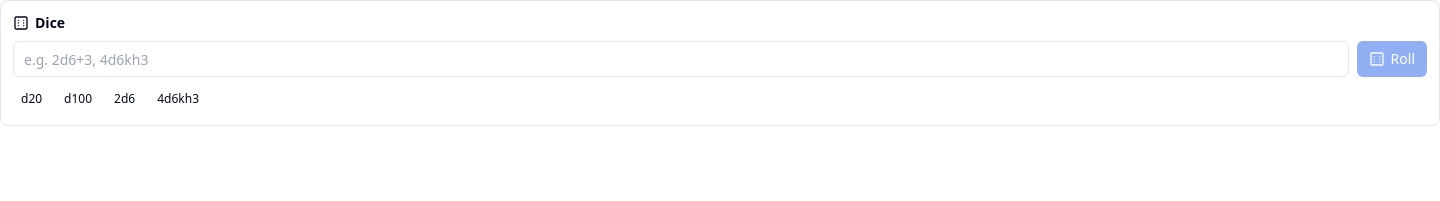
it: DicePanel › rolls a typed expression into the history with a total
This screenshot has width=1440, height=201.
Type "2d6+3" into the field named "Dice expression".
click(681, 59); type("2d6+3")  # box [13,41,1349,77]
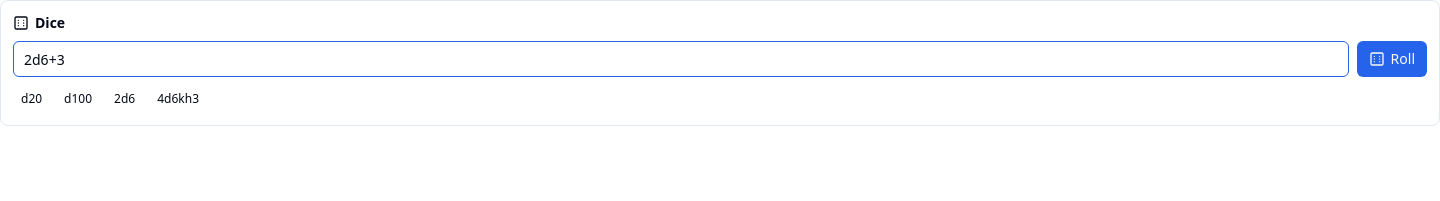
Click the button "Roll".
click(1392, 59)  # box [1357,41,1427,77]
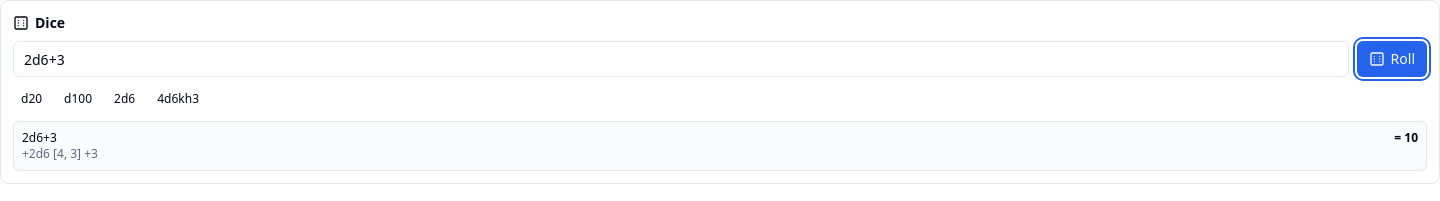
Check: the list item shows "2d6+3", box [22,129,57,146]
Check: the list item reads "2d6+3 = 10 +2d6 [4, 3] +3", box [22,130,1418,162]
